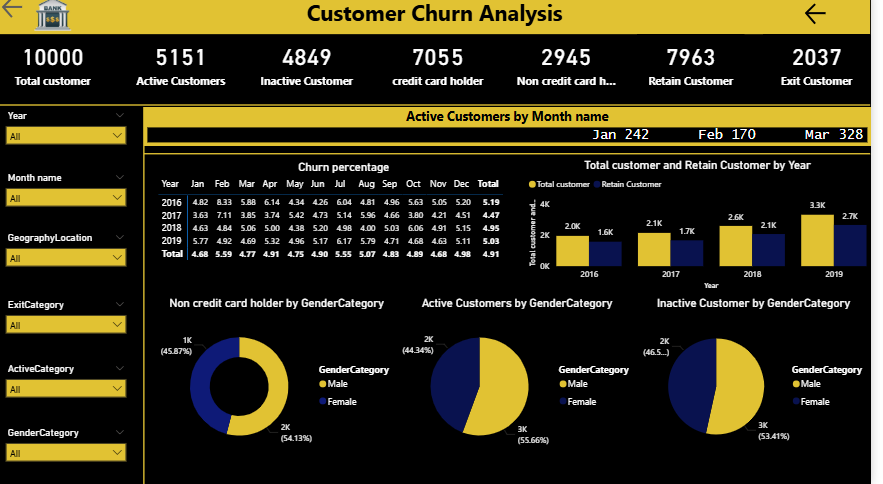

Layout of this report page (visuals, bound fields, positions):
{"tool":"powerbi","page":{"name":" Page 2","canvas":[1280,720],"ordinal":1},"visuals":[{"type":"card","fields":{"Values":["Calculations.Total customer"]},"box":[0,58.8,157.9,84],"z":0},{"type":"card","fields":{"Values":["Calculations.Active Customers"]},"box":[183.1,58.8,166.3,84],"z":1000},{"type":"card","fields":{"Values":["Calculations.Inactive Customer"]},"box":[367.9,58.8,169.7,84],"z":2000},{"type":"card","fields":{"Values":["Calculations.Count credit holder"]},"box":[564.4,58.8,161.3,84],"z":3000},{"type":"card","fields":{"Values":["Calculations.Non credit card holder"]},"box":[754.2,58.8,159.6,84],"z":4000},{"type":"textbox","box":[0,0,1280,58.8],"z":5000},{"type":"card","fields":{"Values":["Calculations.Retain Customer"]},"box":[937.3,58.8,157.9,84],"z":6000},{"type":"card","fields":{"Values":["Calculations.Exit Customer"]},"box":[1122.1,58.8,157.9,84],"z":7000},{"type":"shape","box":[0,139.4,1280,47],"z":8000},{"type":"shape","box":[196.5,166.3,31.9,554.3],"z":9000},{"type":"slicer","fields":{"Values":["DateMaster.Year"]},"box":[0,166.3,196.5,77.3],"z":10000},{"type":"slicer","fields":{"Values":["DateMaster.Month name"]},"box":[0,257,196.5,77.3],"z":11000},{"type":"slicer","fields":{"Values":["Geography.GeographyLocation"]},"box":[0,346,196.5,77.3],"z":12000},{"type":"slicer","fields":{"Values":["ExitCustomer.ExitCategory"]},"box":[0,443.5,196.5,77.3],"z":13000},{"type":"slicer","fields":{"Values":["ActiveCustomer.ActiveCategory"]},"box":[0,537.5,196.5,77.3],"z":14000},{"type":"slicer","fields":{"Values":["Gender.GenderCategory"]},"box":[0,631.6,196.5,77.3],"z":15000},{"type":"pivotTable","title":"Churn percentage","fields":{"Values":["Calculations.churn %"],"Rows":["DateMaster.Year"],"Columns":["DateMaster.Month name"]},"box":[229.4,244.2,554.9,190.5],"z":16000},{"type":"pieChart","fields":{"Y":["Calculations.Inactive Customer"],"Category":["Gender.GenderCategory"]},"box":[937.3,443.5,342.7,246.9],"z":17000},{"type":"donutChart","fields":{"Y":["Calculations.Non credit card holder"],"Category":["Gender.GenderCategory"]},"box":[230.1,443.5,354.4,246.9],"z":18000},{"type":"pieChart","fields":{"Y":["Calculations.Active Customers"],"Category":["Gender.GenderCategory"]},"box":[584.6,443.5,352.8,246.9],"z":19000},{"type":"clusteredColumnChart","fields":{"Category":["DateMaster.Year","DateMaster.Month name"],"Y":["Calculations.Total customer","Calculations.Retain Customer"]},"box":[773.2,240.5,506.8,197.9],"z":20000},{"type":"ScrollingTextVisual1448795304508","fields":{"Measure Absolute":["Calculations.Active Customers"],"Category":["DateMaster.Month name"]},"box":[212.7,166.5,1067.3,57.3],"z":21000},{"type":"shape","box":[212.7,210.9,1067.3,46.2],"z":22000},{"type":"image","box":[0,0,157.2,59.2],"z":23000},{"type":"actionButton","box":[0,0,100,40],"z":24000},{"type":"actionButton","box":[1180.1,9.2,99.9,40.7],"z":25000}]}

Visuals, with their boxes in screenshot pixels (x1, y1, x2, y2), scaled from the page's 1280x720 canvas onto the 883x484 screenshot:
card - Calculations.Total customer: (0, 40, 109, 96)
card - Calculations.Active Customers: (126, 40, 241, 96)
card - Calculations.Inactive Customer: (254, 40, 371, 96)
card - Calculations.Count credit holder: (389, 40, 501, 96)
card - Calculations.Non credit card holder: (520, 40, 630, 96)
textbox: (0, 0, 882, 40)
card - Calculations.Retain Customer: (647, 40, 756, 96)
card - Calculations.Exit Customer: (774, 40, 882, 96)
shape: (0, 94, 882, 125)
shape: (136, 112, 158, 483)
slicer - DateMaster.Year: (0, 112, 136, 164)
slicer - DateMaster.Month name: (0, 173, 136, 225)
slicer - Geography.GeographyLocation: (0, 233, 136, 285)
slicer - ExitCustomer.ExitCategory: (0, 298, 136, 350)
slicer - ActiveCustomer.ActiveCategory: (0, 361, 136, 413)
slicer - Gender.GenderCategory: (0, 425, 136, 477)
"Churn percentage" pivotTable: (158, 164, 541, 292)
pieChart - Calculations.Inactive Customer x Gender.GenderCategory: (647, 298, 882, 464)
donutChart - Calculations.Non credit card holder x Gender.GenderCategory: (159, 298, 403, 464)
pieChart - Calculations.Active Customers x Gender.GenderCategory: (403, 298, 647, 464)
clusteredColumnChart - DateMaster.Year x DateMaster.Month name: (533, 162, 882, 295)
ScrollingTextVisual1448795304508 - Calculations.Active Customers x DateMaster.Month name: (147, 112, 882, 150)
shape: (147, 142, 882, 173)
image: (0, 0, 108, 40)
actionButton: (0, 0, 69, 27)
actionButton: (814, 6, 882, 34)
